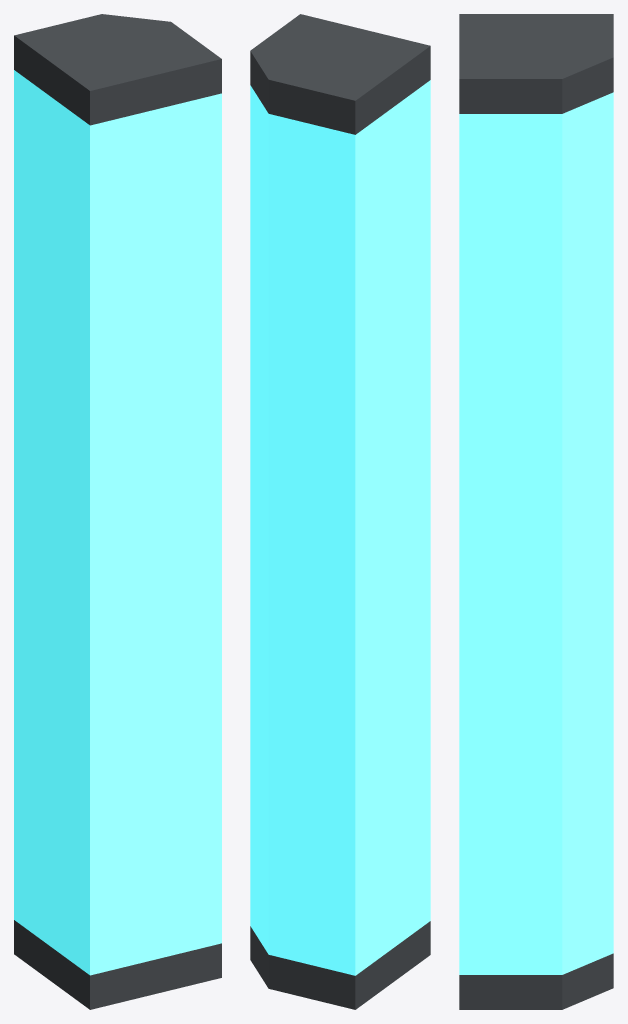
File: ENV_MOD_04_CornerColumn.glb
The picture shows the model from 3 angles, left to right: view 1: azimuth 30°, elevation 25°; view 2: azimuth 150°, elevation 25°; view 3: azimuth 270°, elevation 25°; orthographic projection. The views are drawn at different scales.
Parts seen in each view (by area): view 1: SM_ENV_MOD_04_CornerColumn; view 2: SM_ENV_MOD_04_CornerColumn; view 3: SM_ENV_MOD_04_CornerColumn.
Part boxes in pixels (bbox=[...]): SM_ENV_MOD_04_CornerColumn: bbox=[14, 14, 221, 1009]; SM_ENV_MOD_04_CornerColumn: bbox=[250, 14, 430, 1009]; SM_ENV_MOD_04_CornerColumn: bbox=[459, 14, 613, 1009].
Bounding box in the file's own units: 0.6 × 4 × 0.6.
